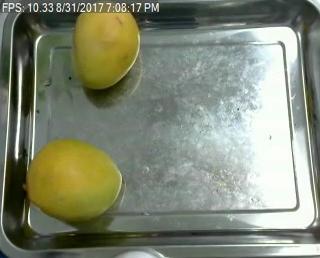Mango: (24, 140, 121, 219), (71, 1, 140, 93)
